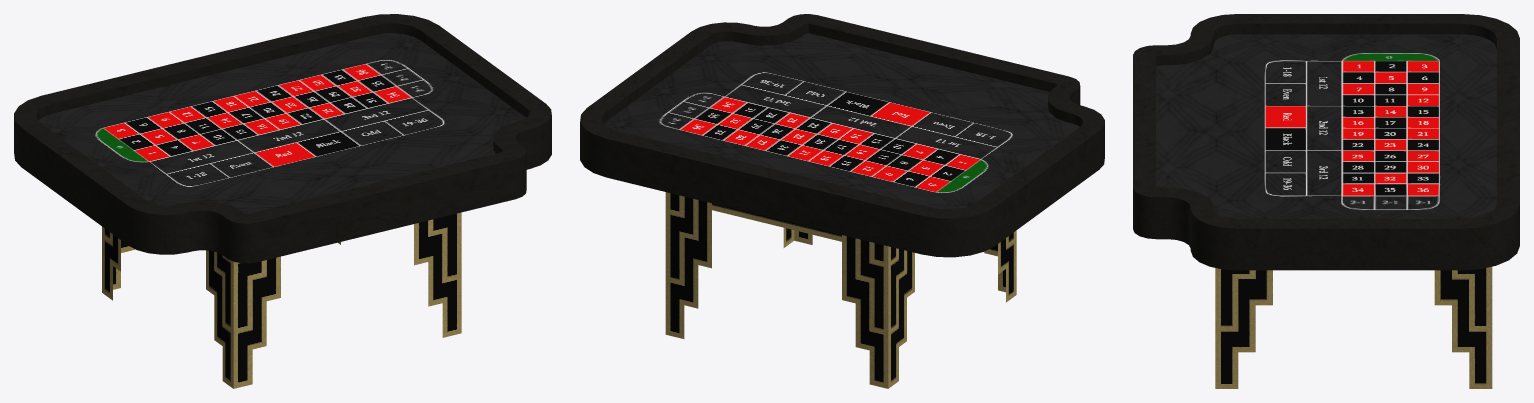
File: roulette_table_v2.glb
3 renders of one model, left to right at view 1: azimuth 30°, elevation 25°; view 2: azimuth 150°, elevation 25°; view 3: azimuth 270°, elevation 25°, orthographic. The views are drawn at different scales.
Visible parts, largest first — view 1: V2 Table Baked, V2 Table Top Cut Resized, V2 Table Baked Legs, v2_mesh_buttons.1st, v2_mesh_buttons.2nd, v2_mesh_buttons.3rd, v2_mesh_buttons.low, v2_mesh_buttons.high, v2_mesh_buttons.odd, v2_mesh_buttons.black, v2_mesh_buttons.even, v2_mesh_buttons.red (+1 smaller); view 2: V2 Table Baked, V2 Table Top Cut Resized, V2 Table Baked Legs, v2_mesh_buttons.2nd, v2_mesh_buttons.3rd, v2_mesh_buttons.1st, v2_mesh_buttons.odd, v2_mesh_buttons.high, v2_mesh_buttons.even, v2_mesh_buttons.red, v2_mesh_buttons.low, v2_mesh_buttons.black (+1 smaller); view 3: V2 Table Baked, V2 Table Top Cut Resized, V2 Table Baked Legs, v2_mesh_buttons.3rd, v2_mesh_buttons.1st, v2_mesh_buttons.2nd, v2_mesh_buttons.low, v2_mesh_buttons.high, v2_mesh_buttons.black, v2_mesh_buttons.even, v2_mesh_buttons.odd, v2_mesh_buttons.red (+40 smaller).
Boxes of the visible parts, x1,y1,x2,y2 form: V2 Table Baked: [14, 14, 551, 263]; V2 Table Top Cut Resized: [38, 33, 525, 213]; V2 Table Baked Legs: [102, 212, 461, 388]; v2_mesh_buttons.1st: [150, 140, 253, 173]; v2_mesh_buttons.2nd: [237, 119, 340, 152]; v2_mesh_buttons.3rd: [324, 98, 427, 131]; v2_mesh_buttons.low: [167, 163, 229, 188]; v2_mesh_buttons.high: [385, 110, 447, 134]; v2_mesh_buttons.odd: [341, 120, 403, 145]; v2_mesh_buttons.black: [298, 131, 360, 156]; v2_mesh_buttons.even: [210, 152, 272, 177]; v2_mesh_buttons.red: [254, 142, 316, 166]; V2 Table Baked: [580, 14, 1104, 257]; V2 Table Top Cut Resized: [604, 33, 1079, 209]; V2 Table Baked Legs: [665, 192, 1016, 388]; v2_mesh_buttons.2nd: [811, 106, 911, 138]; v2_mesh_buttons.3rd: [726, 85, 826, 117]; v2_mesh_buttons.1st: [896, 126, 996, 159]; v2_mesh_buttons.odd: [784, 81, 845, 105]; v2_mesh_buttons.high: [742, 71, 802, 95]; v2_mesh_buttons.even: [912, 112, 972, 136]; v2_mesh_buttons.red: [869, 102, 930, 126]; v2_mesh_buttons.low: [955, 123, 1015, 147]; v2_mesh_buttons.black: [827, 92, 888, 115]; V2 Table Baked: [1133, 14, 1519, 270]; V2 Table Top Cut Resized: [1156, 34, 1496, 218]; V2 Table Baked Legs: [1215, 266, 1492, 388]; v2_mesh_buttons.3rd: [1307, 150, 1342, 195]; v2_mesh_buttons.1st: [1307, 61, 1342, 105]; v2_mesh_buttons.2nd: [1307, 106, 1342, 150]; v2_mesh_buttons.low: [1265, 61, 1306, 83]; v2_mesh_buttons.high: [1265, 173, 1306, 195]; v2_mesh_buttons.black: [1265, 128, 1306, 150]; v2_mesh_buttons.even: [1265, 83, 1306, 105]; v2_mesh_buttons.odd: [1265, 150, 1306, 172]; v2_mesh_buttons.red: [1265, 106, 1306, 128].
Size of what is drawn, in the model's own units: 2.2 by 1 by 1.68.
4 materials, 4 textured.
